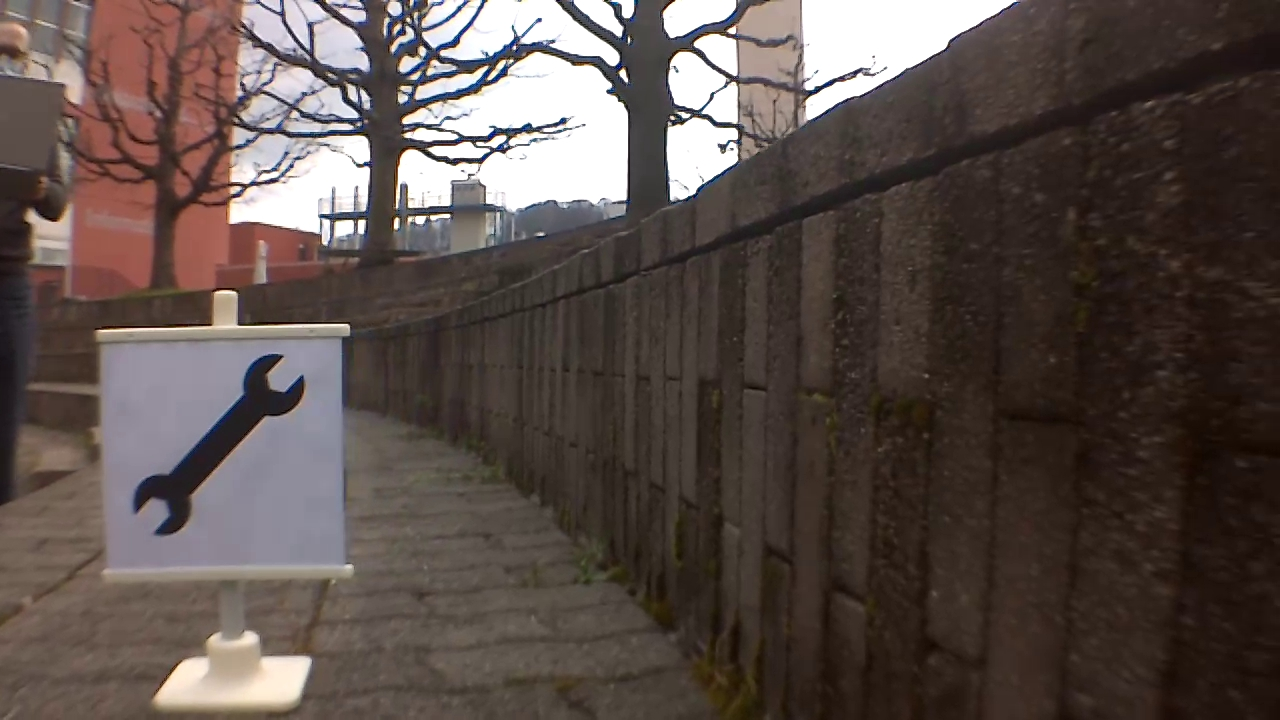wrench: (137, 354, 306, 536)
